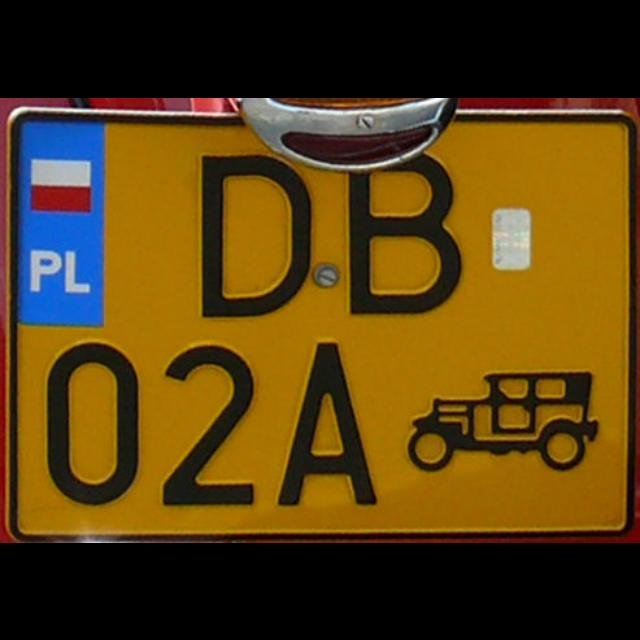pl_license_plate: (13, 113, 627, 531)
